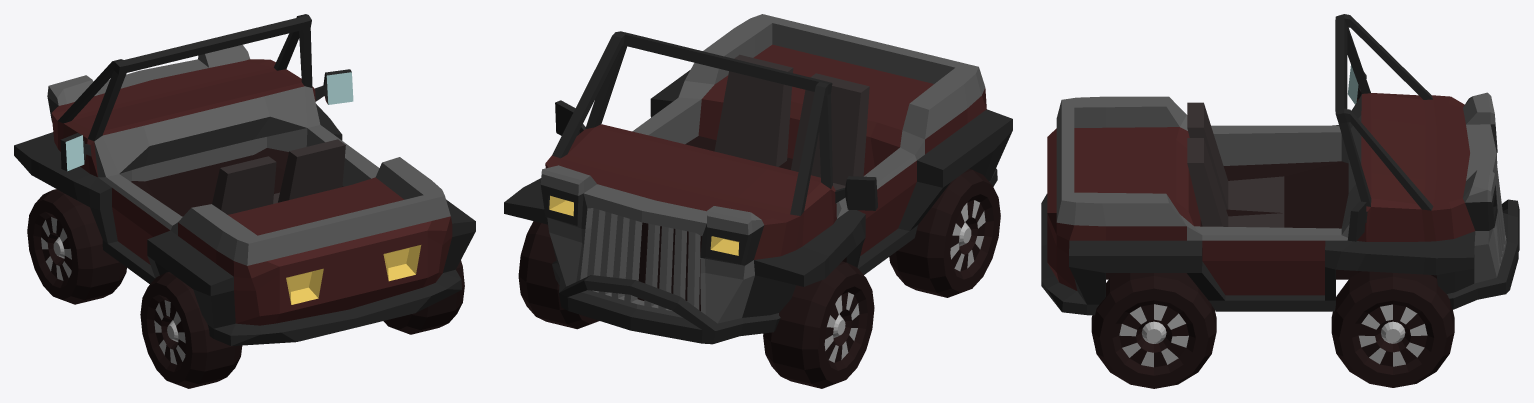
Rendered from AI Racer (Red).fbx.
3 views of the same model, side by side, from view 1: azimuth 30°, elevation 25°; view 2: azimuth 150°, elevation 25°; view 3: azimuth 270°, elevation 25° (orthographic). The views are drawn at different scales.
Parts seen in each view (by area): view 1: Car, Front Right, Back Right, Back Left; view 2: Car, Front Right, Back Right, Front Left; view 3: Car, Front Left, Back Left.
Boxes of the visible parts, bbox=[...] form: Car: bbox=[14, 14, 475, 346]; Front Right: bbox=[27, 189, 126, 304]; Back Right: bbox=[140, 272, 242, 388]; Back Left: bbox=[383, 260, 464, 334]; Car: bbox=[504, 14, 1012, 344]; Front Right: bbox=[763, 261, 874, 388]; Back Right: bbox=[889, 169, 1000, 297]; Front Left: bbox=[518, 221, 598, 329]; Car: bbox=[1041, 14, 1519, 315]; Front Left: bbox=[1331, 271, 1454, 387]; Back Left: bbox=[1091, 273, 1216, 388].
Size of the model in its own units: 255 by 210 by 348.
